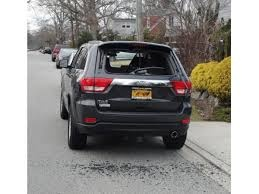Broken-glass: (102, 48, 177, 75)
